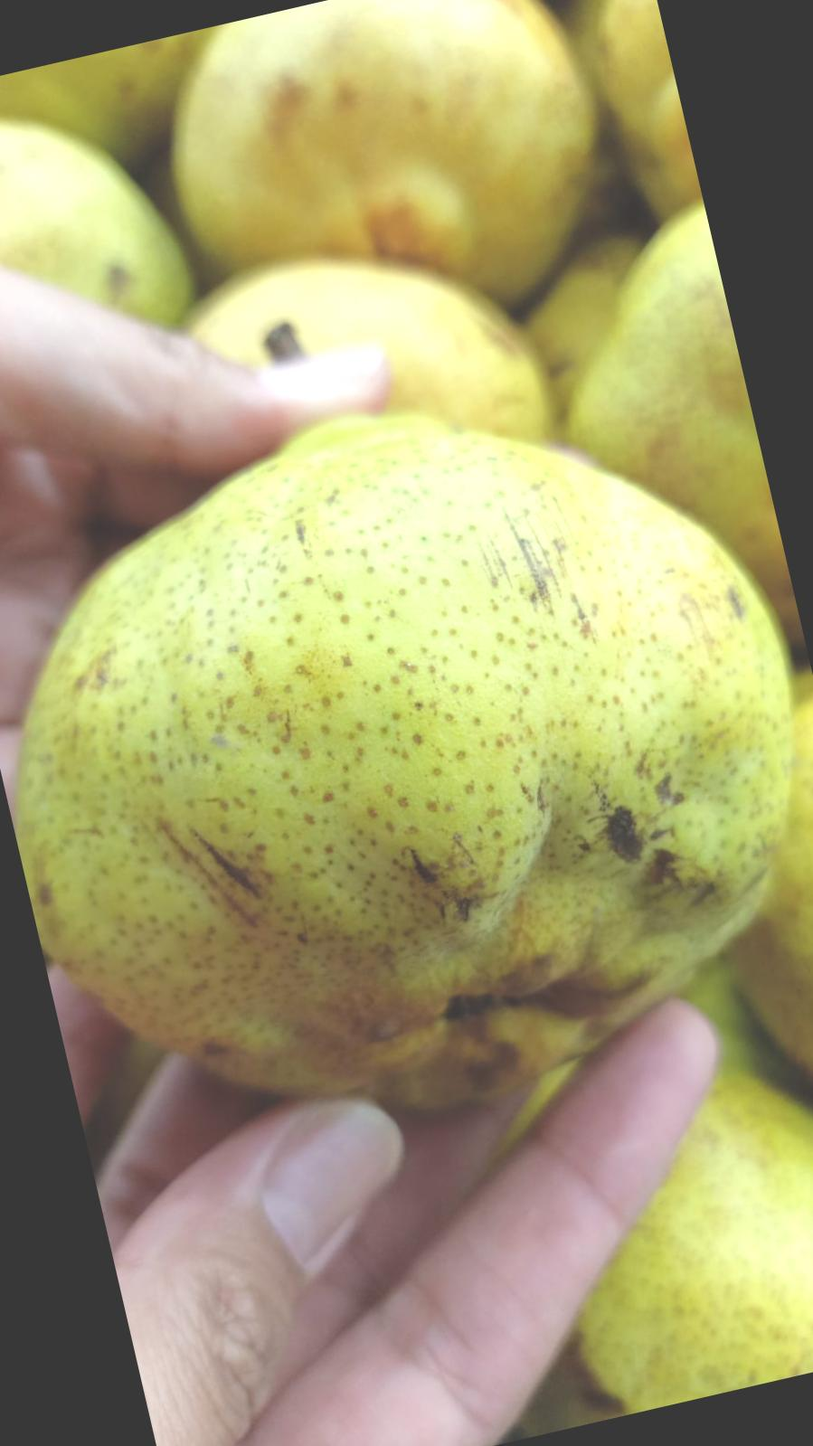Pear Unripe: (18, 320, 670, 1234)
